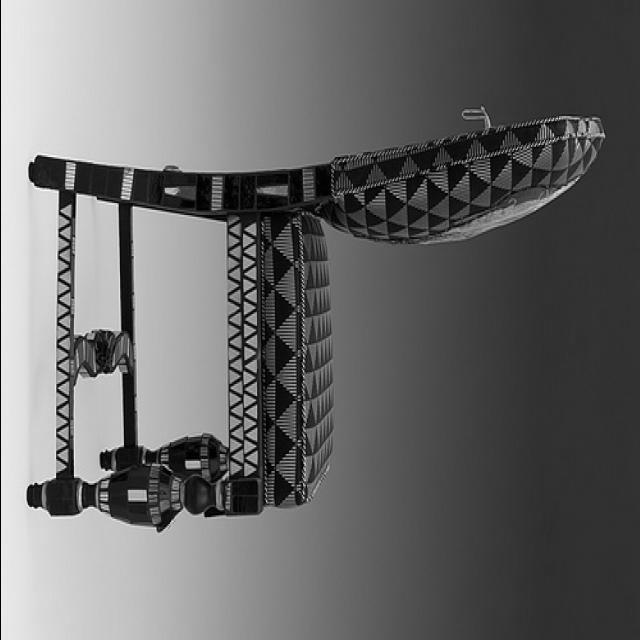chair: (27, 106, 607, 534)
